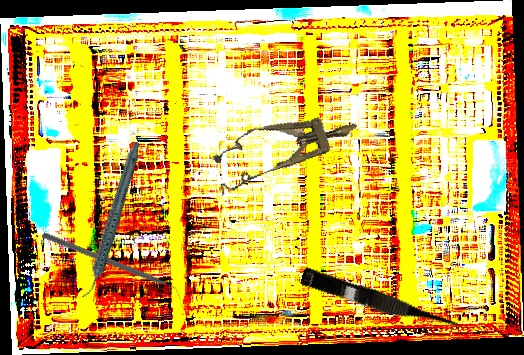Chopper: (38, 232, 186, 302)
Handpiece: (51, 140, 170, 300)
Micro Scissor: (298, 266, 466, 340)
Speculum: (206, 99, 365, 196)
